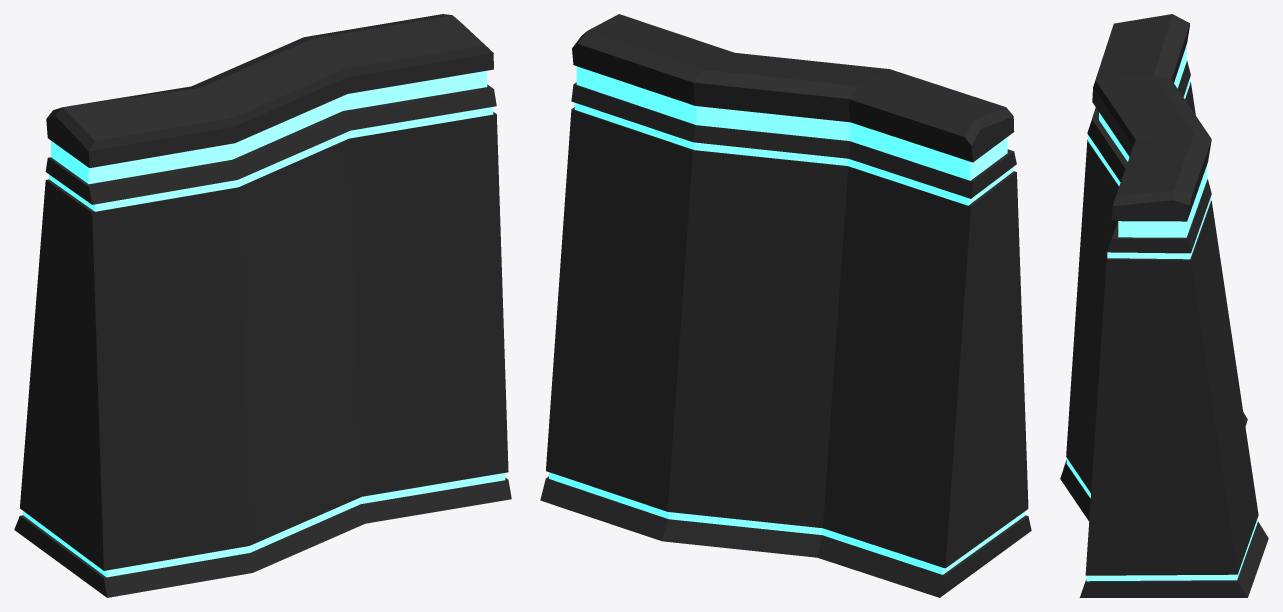
File: High wall distorted 2L.fbx
The picture shows the model from 3 angles, left to right: view 1: azimuth 30°, elevation 25°; view 2: azimuth 150°, elevation 25°; view 3: azimuth 270°, elevation 25°; orthographic projection. The views are drawn at different scales.
Parts seen in each view (by area): view 1: High Wall Distorted 2L; view 2: High Wall Distorted 2L; view 3: High Wall Distorted 2L.
Part boxes in pixels (x1=…): High Wall Distorted 2L: x1=14, y1=14, x2=511, y2=597; High Wall Distorted 2L: x1=540, y1=14, x2=1031, y2=597; High Wall Distorted 2L: x1=1060, y1=14, x2=1268, y2=597.
Size of the model in its own units: 615 by 304 by 656.
